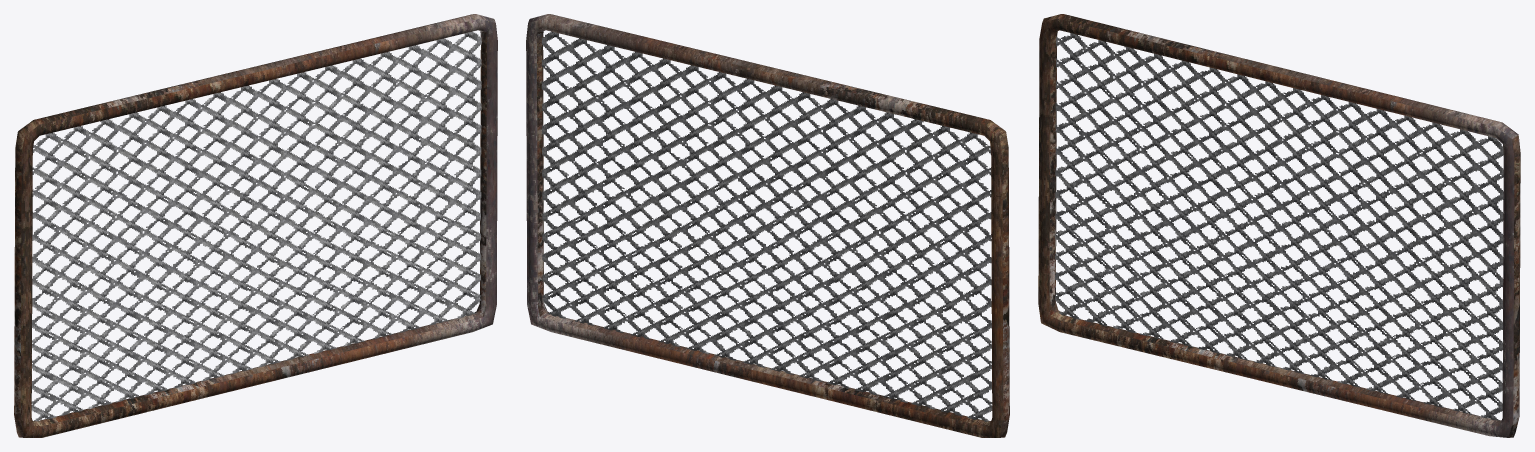
File: PortonAlambres.glb
The picture shows the model from 3 angles, left to right: view 1: azimuth 30°, elevation 25°; view 2: azimuth 150°, elevation 25°; view 3: azimuth 330°, elevation 25°; orthographic projection.
Visible parts, largest first — view 1: Cube.046, Cube.047; view 2: Cube.046, Cube.047; view 3: Cube.046, Cube.047.
Part boxes in pixels (x1,y1,x2,y2): Cube.046: (31, 32, 481, 421); Cube.047: (14, 14, 497, 437); Cube.046: (541, 31, 992, 421); Cube.047: (526, 14, 1009, 437); Cube.046: (1055, 33, 1503, 420); Cube.047: (1038, 14, 1520, 437).
Size of the model in its own units: 1.43 by 0.9056 by 0.0552.
Materials: 2 (2 with a texture image).
